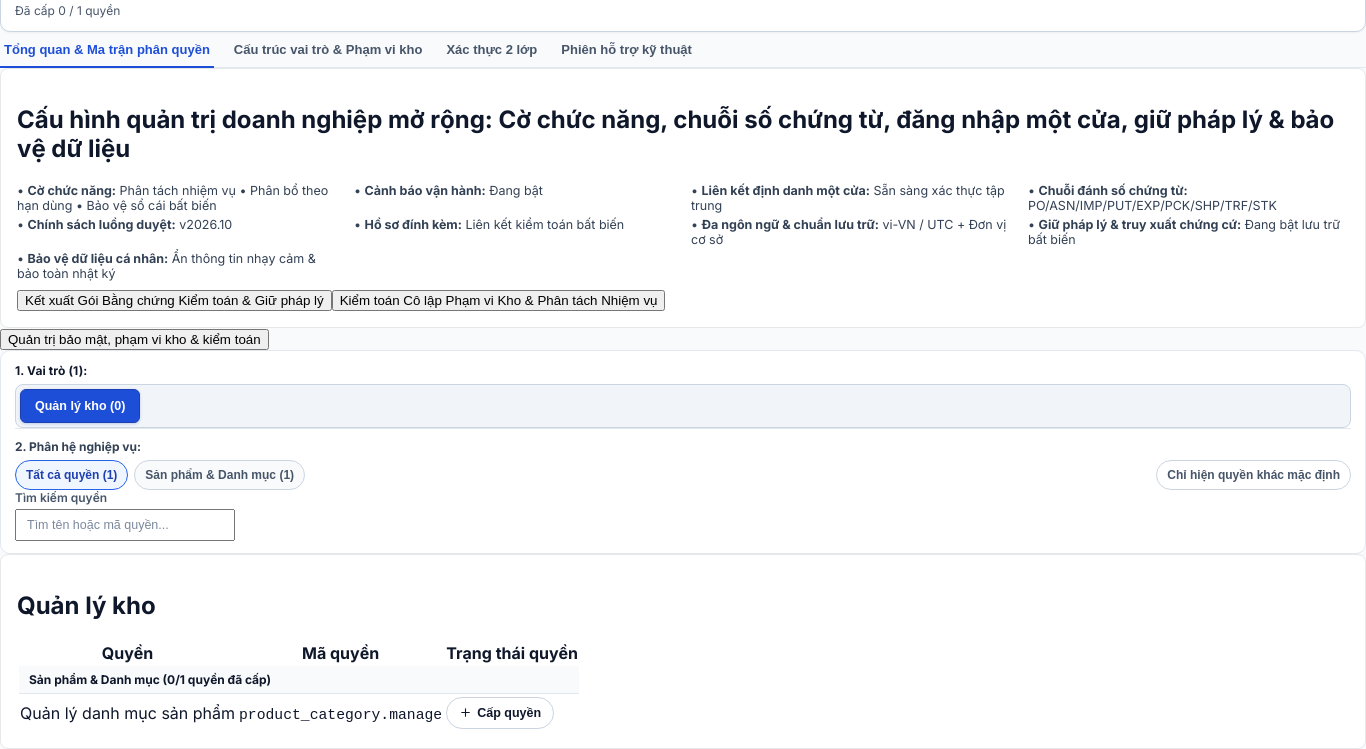
it: quản trị quyền truy cập › 409 xóa grants cũ và không hiển thị lỗi kỹ thuật
(page scrolled)
Click the switch "Cấp quyền" at [500, 713], box [446,697,554,729]
(page scrolled)
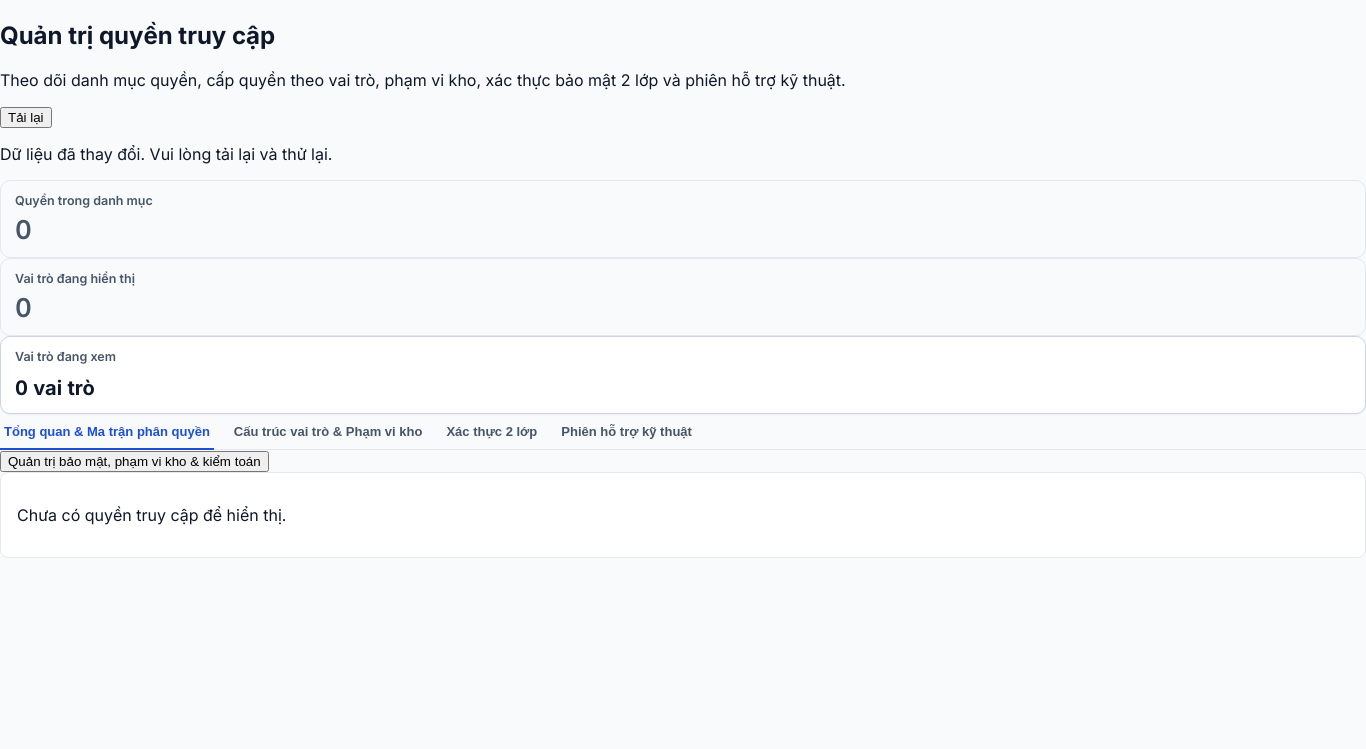
Expected: the message reads "Dữ liệu đã thay đổi. Vui lòng tải lại và thử lại.", [0,144,332,164]
